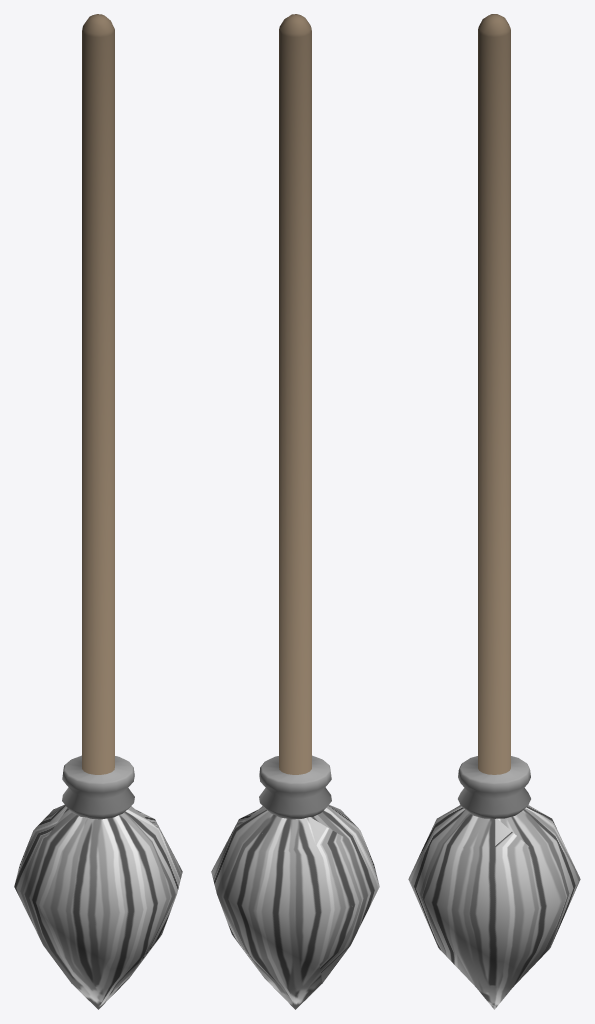
Rendered from MopUnrigged.fbx.
3 renders of one model, left to right at view 1: azimuth 30°, elevation 25°; view 2: azimuth 150°, elevation 25°; view 3: azimuth 270°, elevation 25°, orthographic.
Visible parts, largest first — view 1: Mop, Tail; view 2: Mop, Tail; view 3: Mop, Tail.
Boxes of the visible parts, <box> form: Mop: <box>62,14,134,819</box>; Tail: <box>14,804,182,1009</box>; Mop: <box>259,14,331,819</box>; Tail: <box>211,804,379,1009</box>; Mop: <box>458,14,530,818</box>; Tail: <box>408,805,580,1009</box>.
Bounding box in the file's own units: 38.33 × 257 × 40.3.
